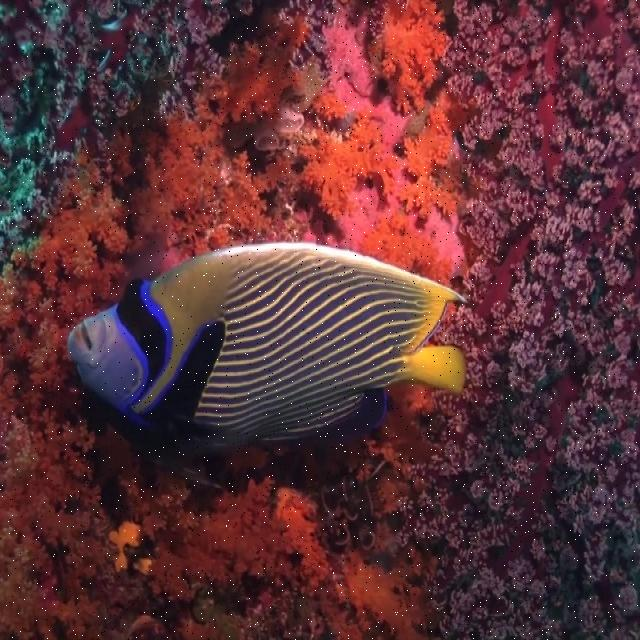fish: (69, 241, 470, 471)
